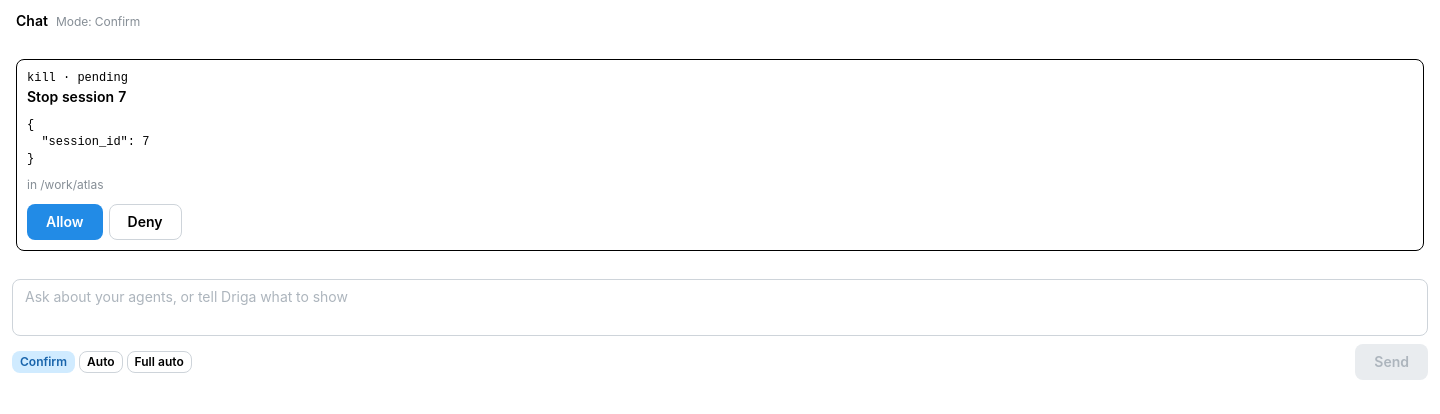
Chat lifecycle › catches an approval failure and allows a retry
The width and height of the screenshot is (1440, 414).
Click the button "Allow".
click(65, 222)  # box [27,204,103,240]
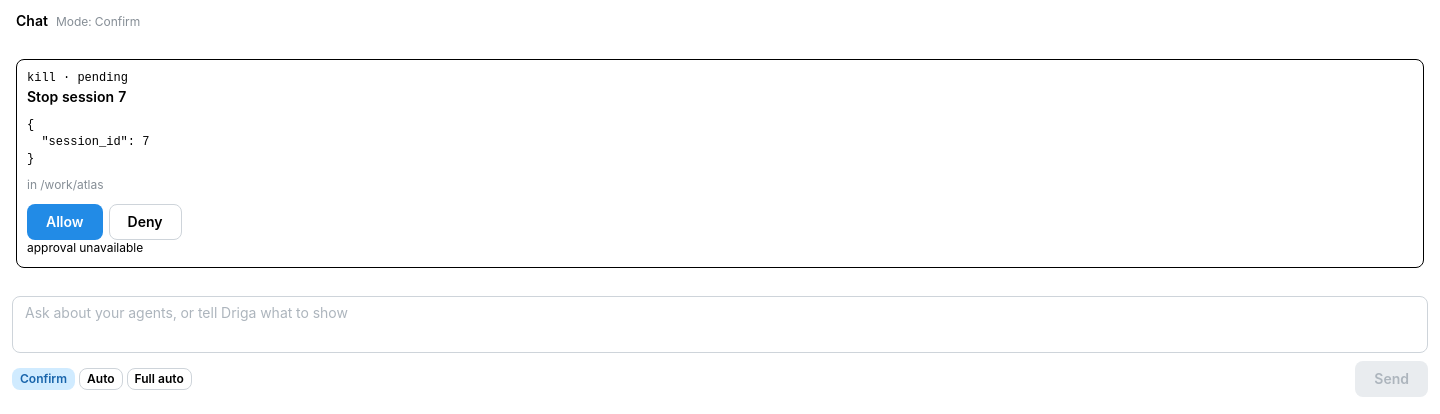
Check: the message "approval unavailable" is shown, box [27,240,143,255]
